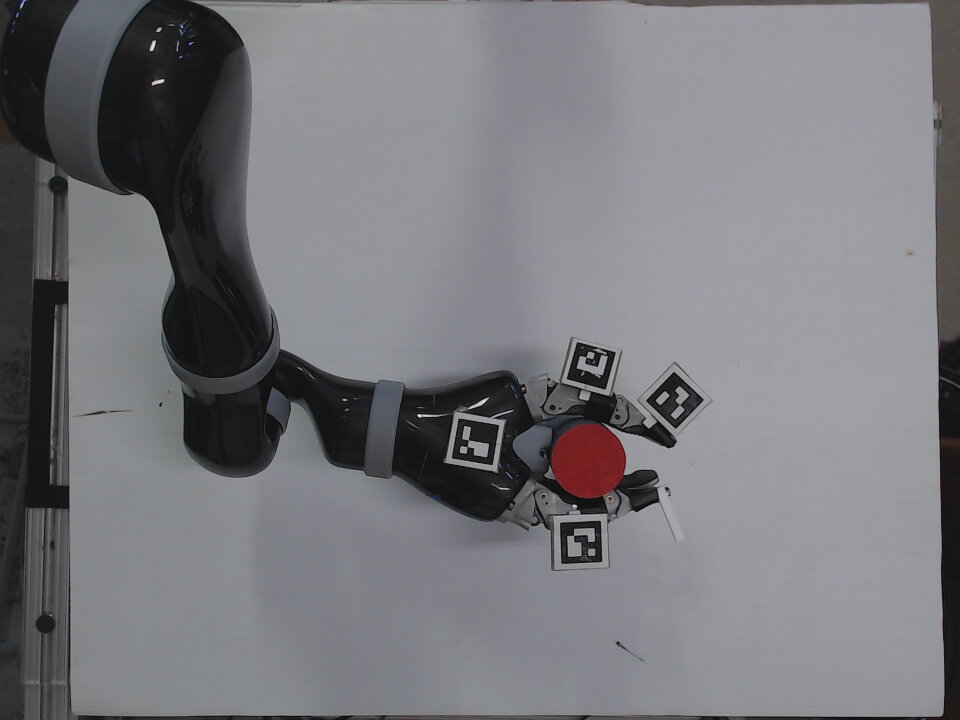cylinder: (547, 417, 631, 501)
